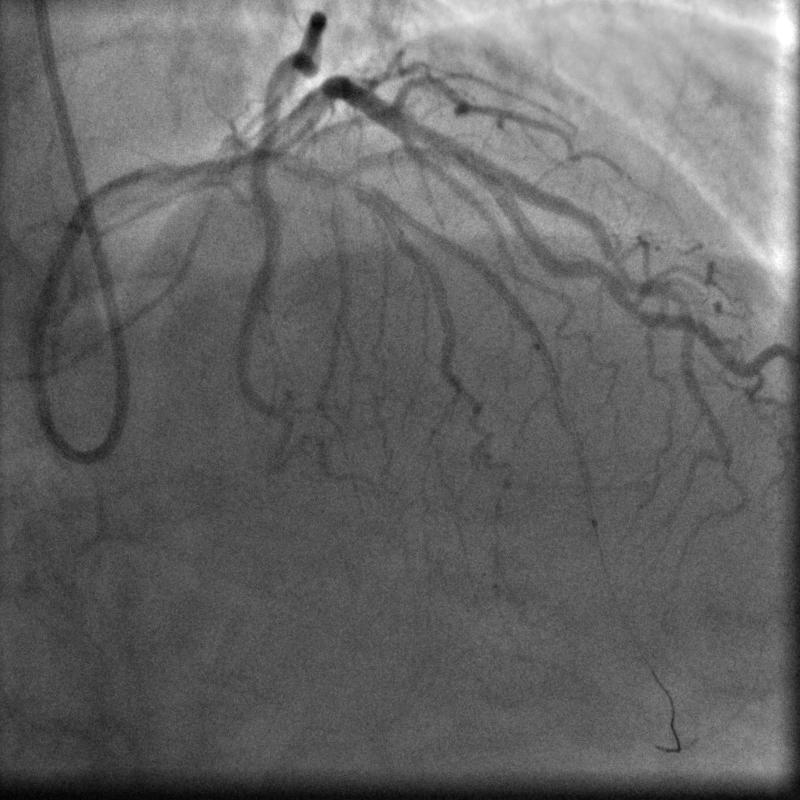Stenosis: (429, 138, 482, 179)
